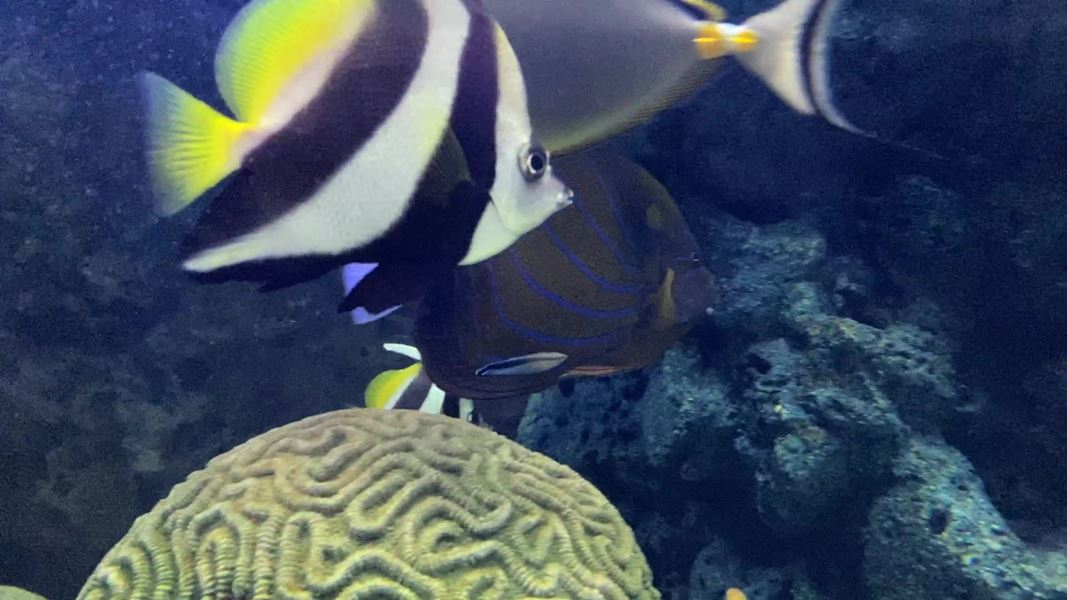Bluesteak cleaner wrasse: (473, 344, 571, 393)
